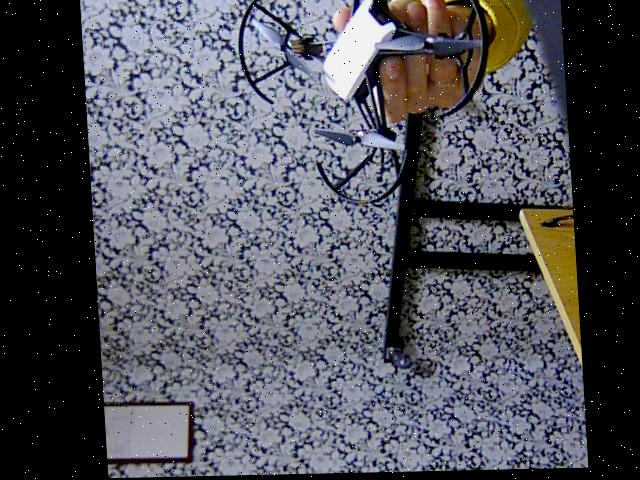drone: (229, 0, 504, 209)
